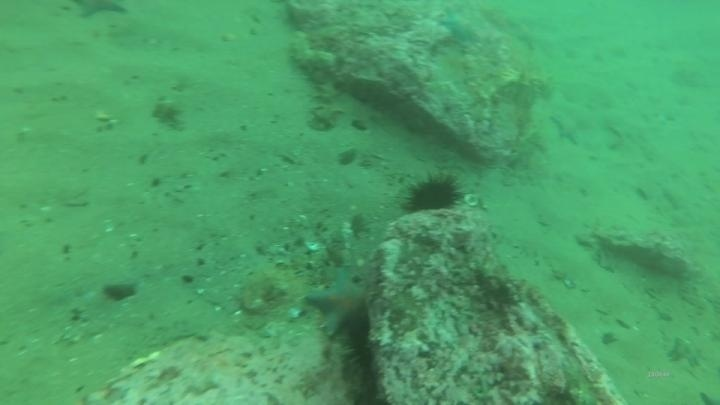echinus: (400, 170, 464, 216)
holothurian: (297, 68, 347, 134), (286, 29, 338, 81)
starfish: (303, 267, 373, 341), (437, 11, 482, 47), (548, 110, 585, 148), (70, 1, 130, 23)
